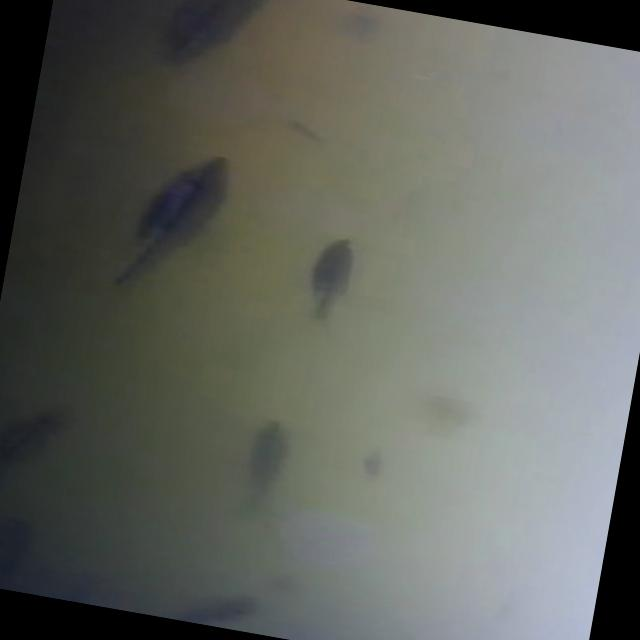Cakil Baligi: (98, 132, 244, 310)
